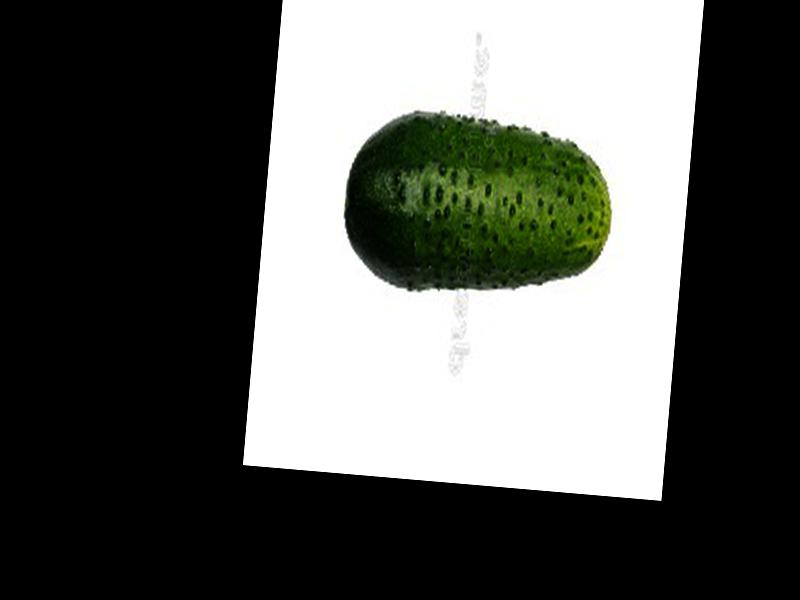Cucumber: (337, 102, 620, 307)
